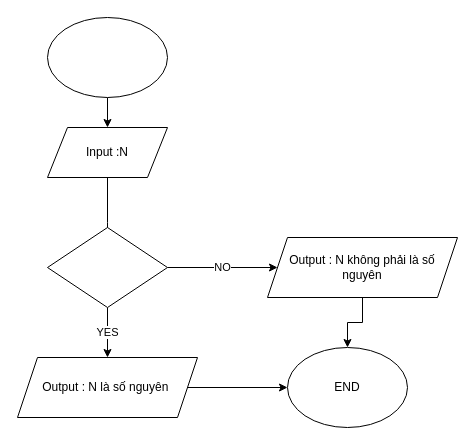
Image size: 475x445. Some labels were removed from this diagram. Here are the shapes that lost their labels. From the top down, the centre of each, then its label:
At (107,57): "START".
At (107,267): "N%2==0".
